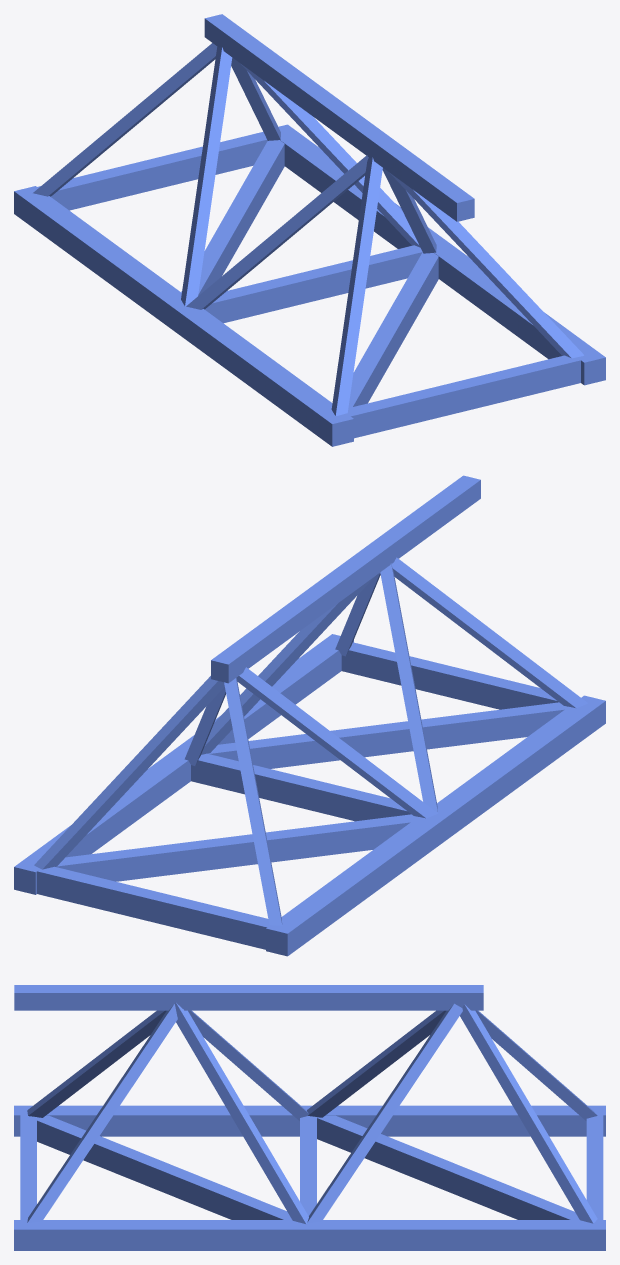
The model's file is towerHeadBoomEnd.glb.
3 views of the same model, one above another, from view 1: azimuth 30°, elevation 25°; view 2: azimuth 150°, elevation 25°; view 3: azimuth 270°, elevation 25° (orthographic). The views are drawn at different scales.
Parts seen in each view (by area): view 1: towerHeadBoomEnd; view 2: towerHeadBoomEnd; view 3: towerHeadBoomEnd.
Part boxes in pixels (bbox=[...]): towerHeadBoomEnd: bbox=[14, 14, 605, 446]; towerHeadBoomEnd: bbox=[14, 475, 605, 956]; towerHeadBoomEnd: bbox=[14, 985, 605, 1250].
Size of the model in its own units: 63.05 by 47 by 127.
